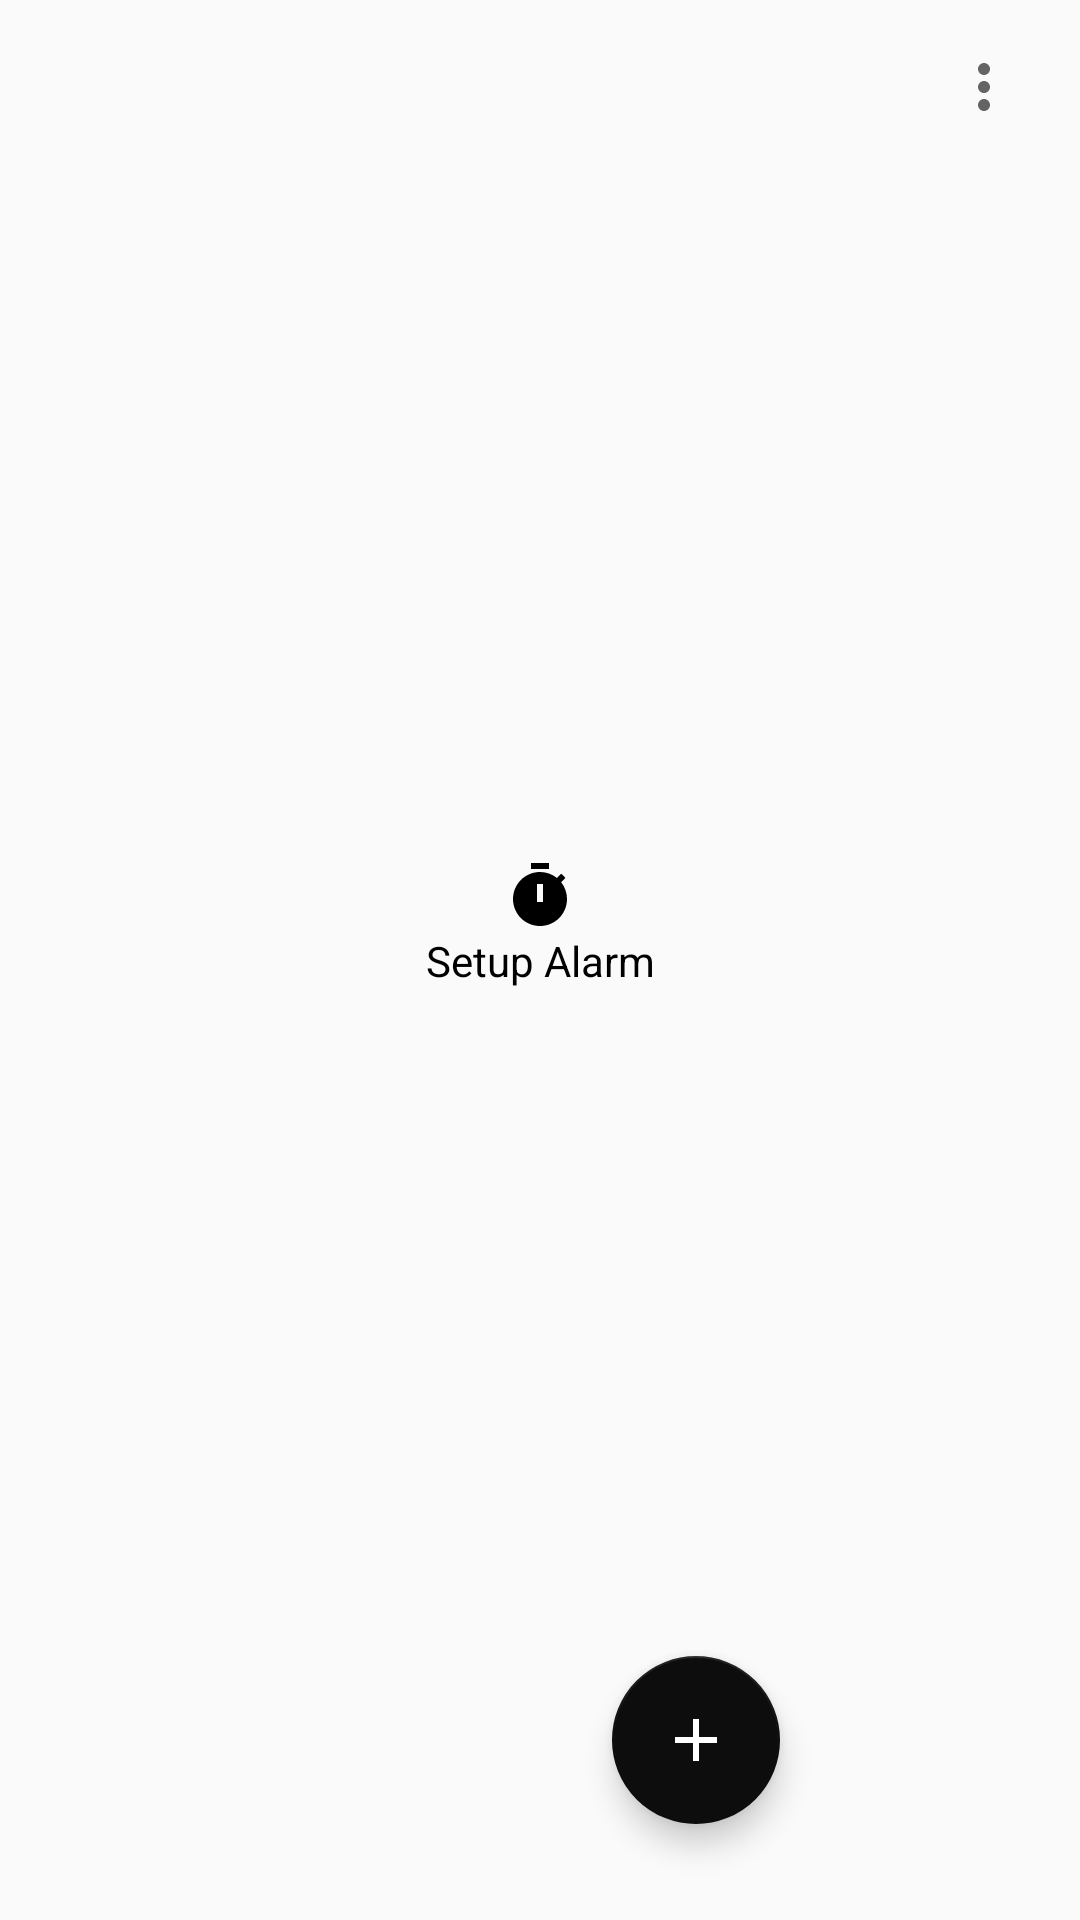

Icons on this 1080×1920 Android screen, each with the point to tap as [x,y]:
add: [696,1740]
